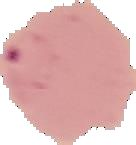parasitized: (5, 33, 57, 95)
